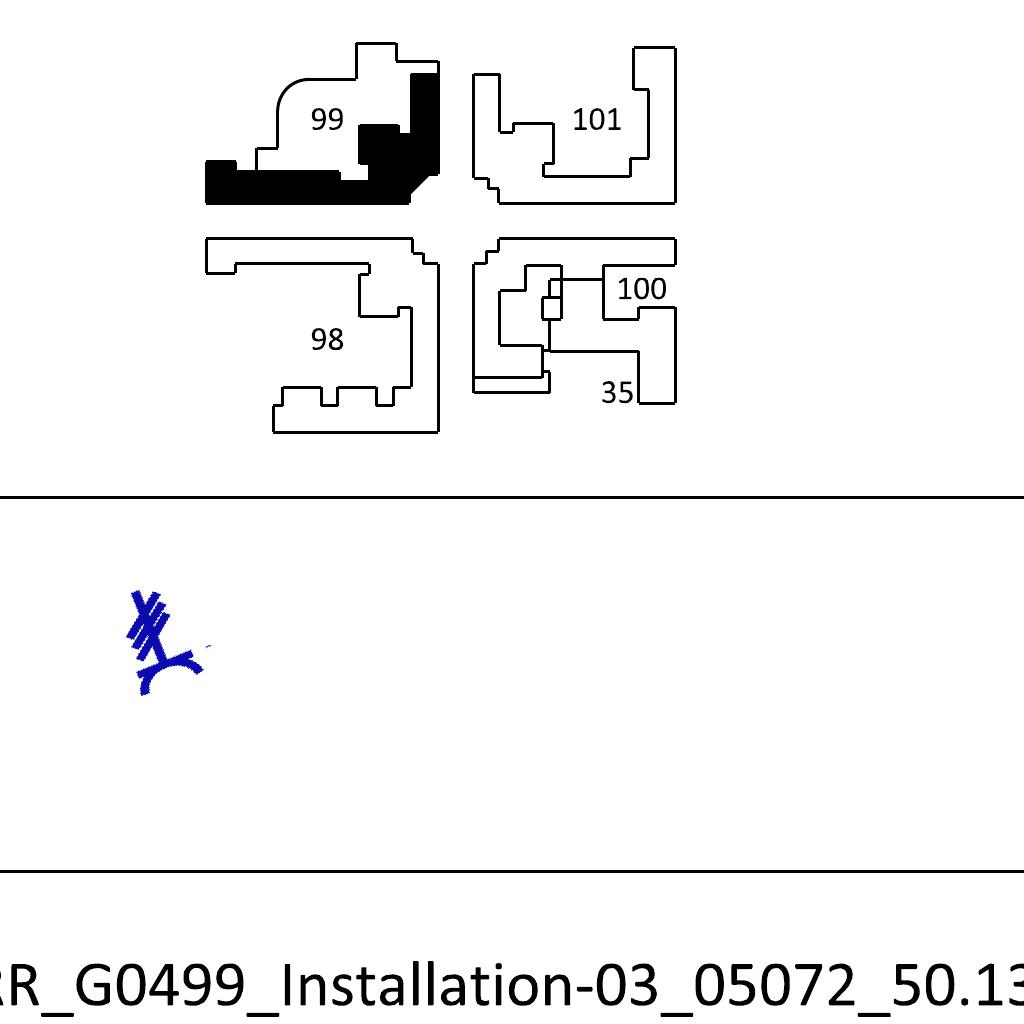CEE_Drehstrom_Steckdose_16_32_A: (100, 569, 224, 701)
